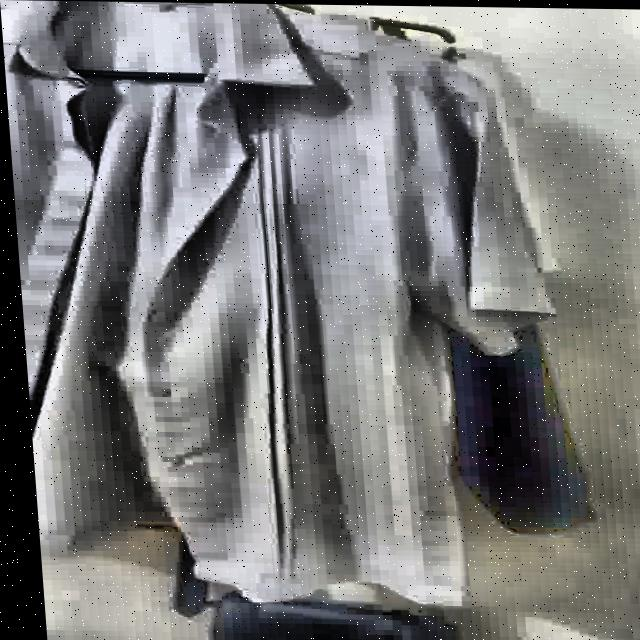clothes: (9, 0, 580, 621)
